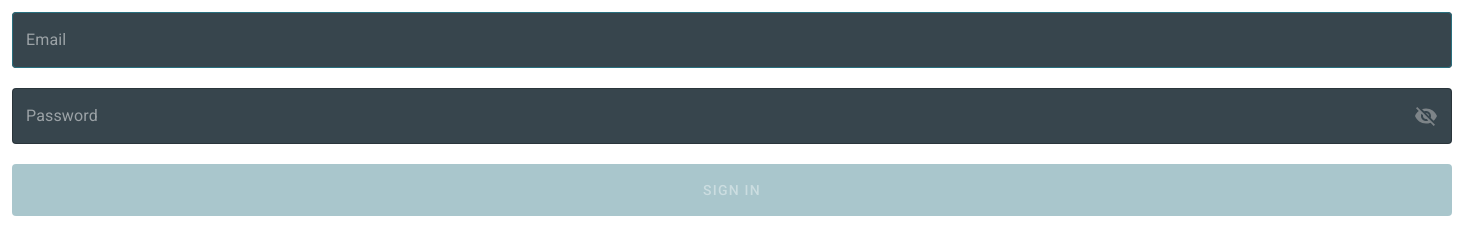
Test case: Form › SubmitButton › should not be disabled › when email is valid and password is not empty
In the field labelled "Email": (732, 40) [12, 12, 1452, 68], type "valid-email@test.com"
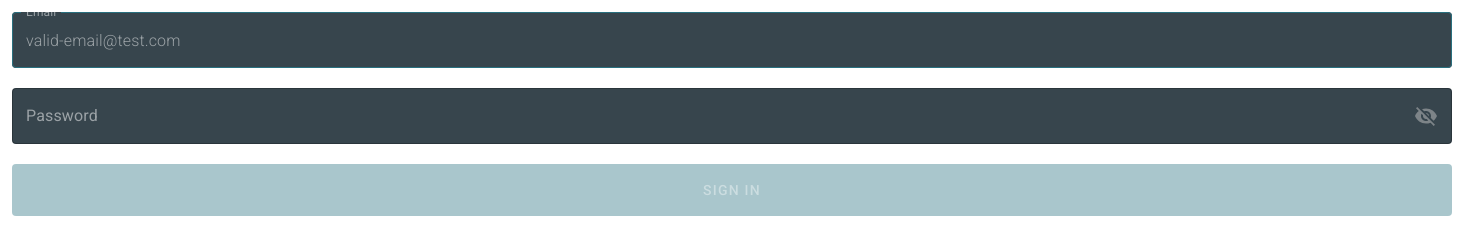
In the password field labelled "Password": (703, 116) [12, 88, 1394, 144], type "123"
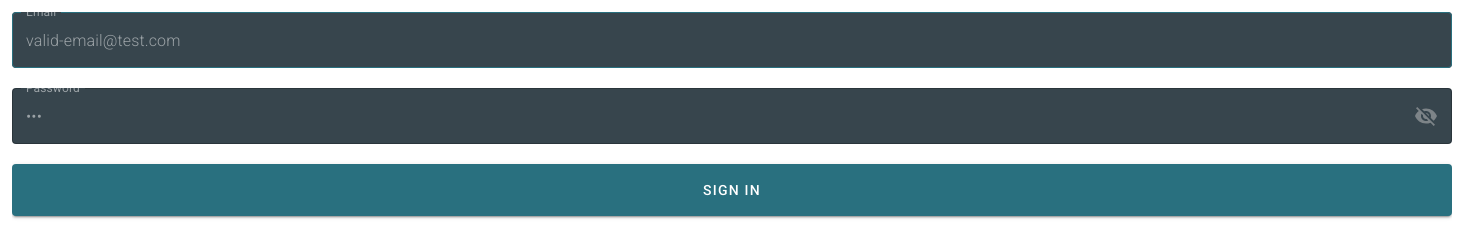
Expected: the button "SIGN IN" is enabled, [12, 164, 1452, 216]
